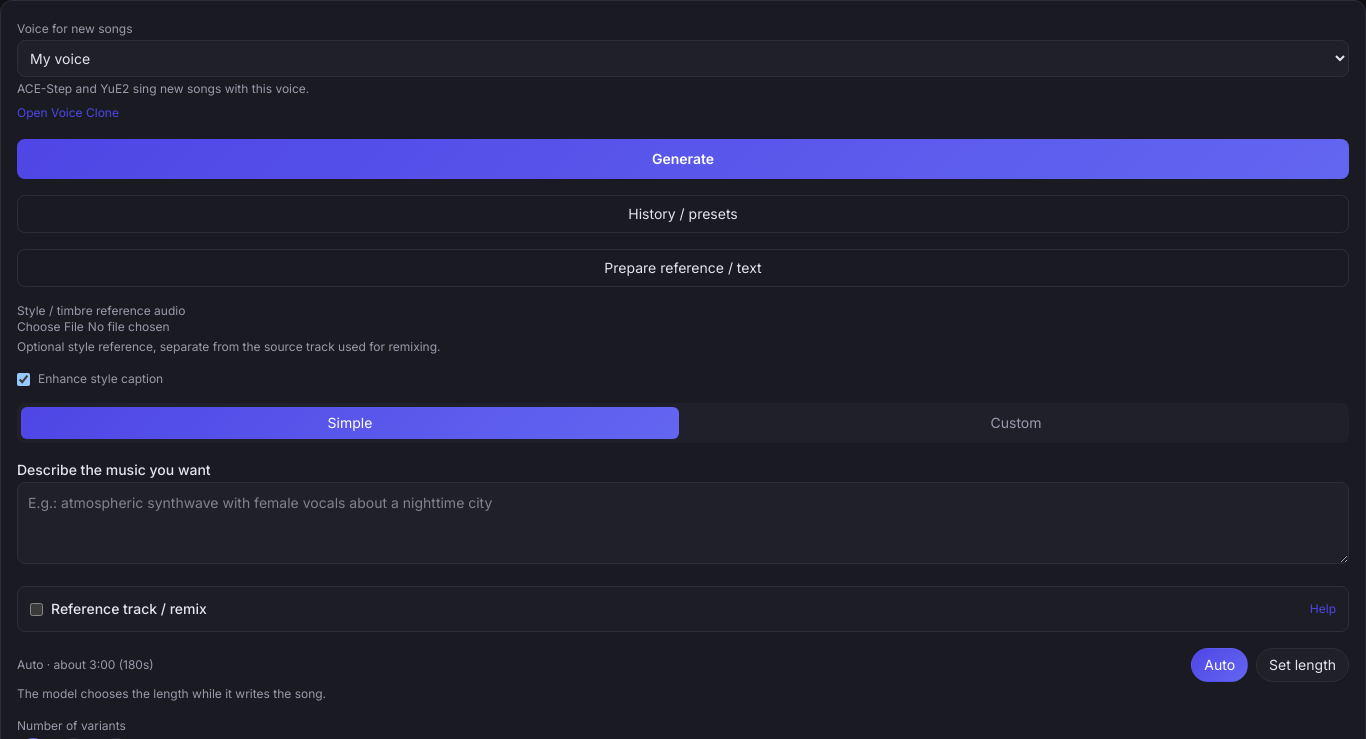
offers replacement independently of ACE task support and hides irrelevant generation controls
Click the checkbox labelled "Reference track / remix Help": click(36, 609) [30,602,43,616]
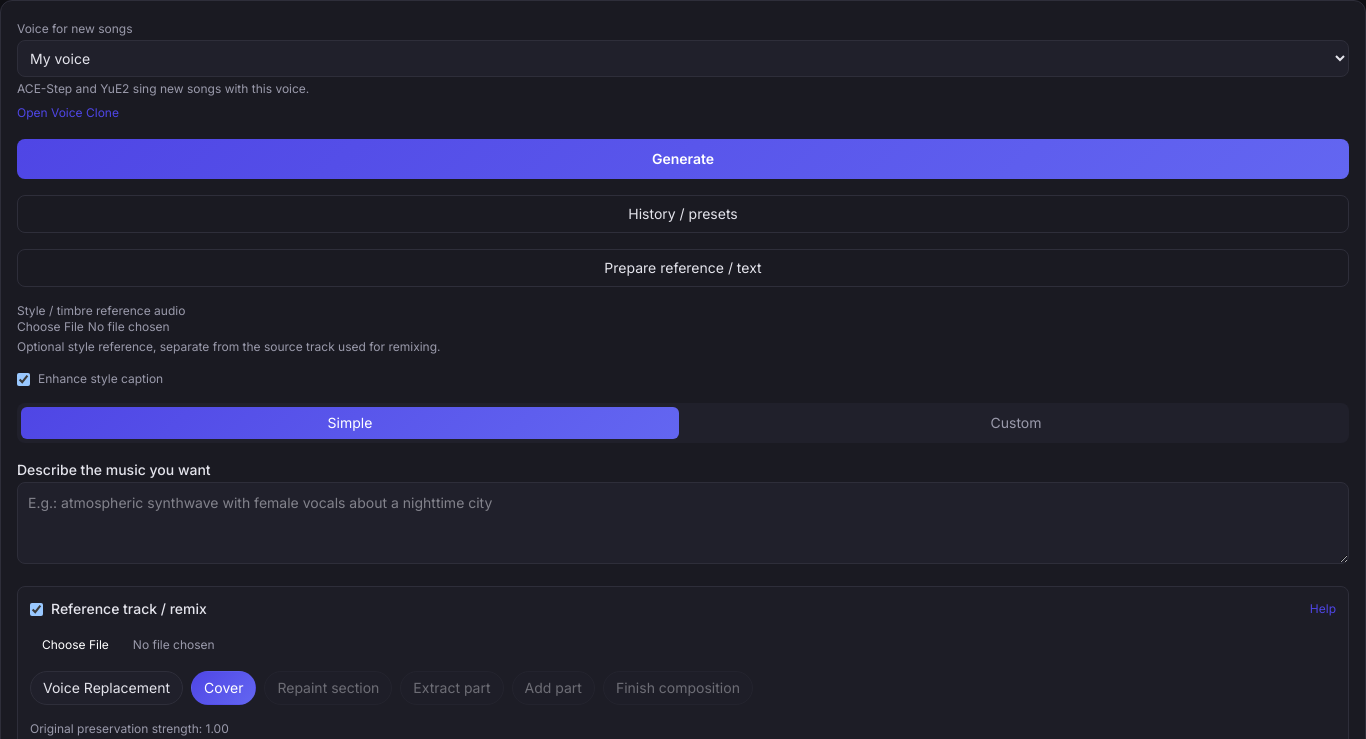
Click the button "Voice Replacement": click(107, 688) [30,671,183,705]
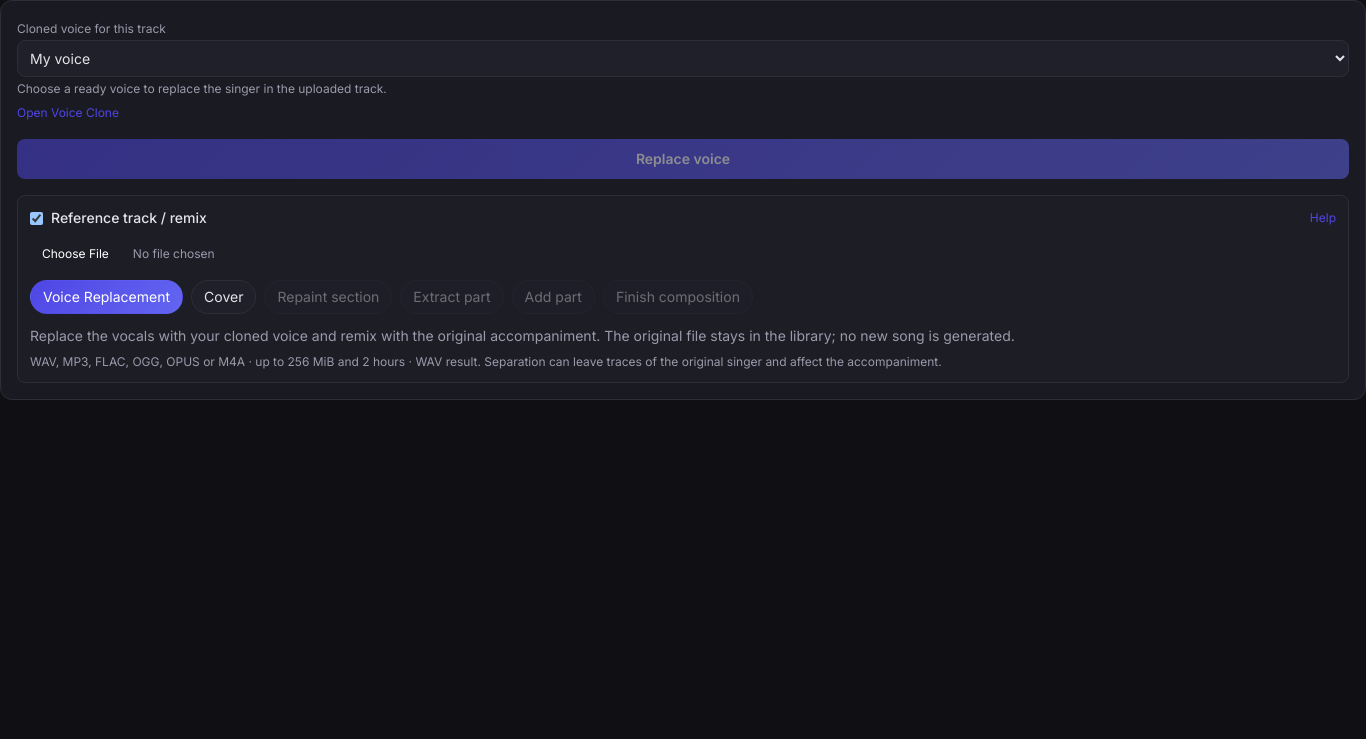
Check: the button "Voice Replacement" is enabled, box [30,280,183,314]
Check: the button "Replace voice" is disabled, box [17,139,1349,179]
Check: the text "original accompaniment" is shown, box [30,327,1015,344]
